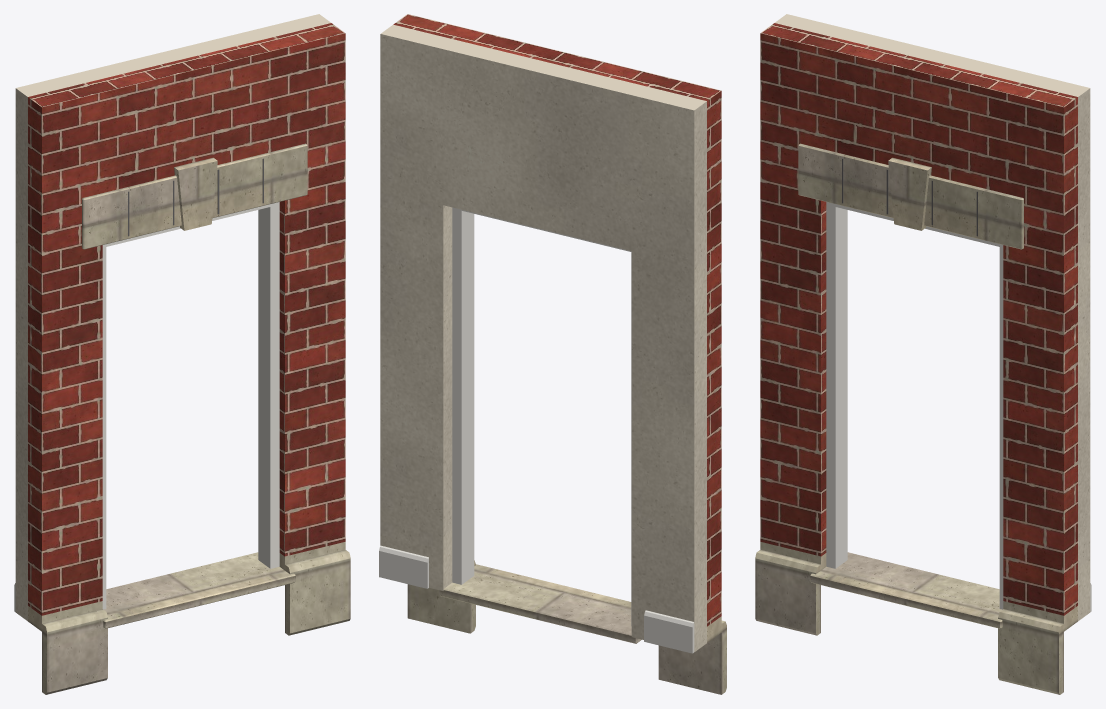
File: w1_bal.glb
3 renders of one model, left to right at view 1: azimuth 30°, elevation 25°; view 2: azimuth 150°, elevation 25°; view 3: azimuth 330°, elevation 25°, orthographic. The views are drawn at different scales.
Parts seen in each view (by area): view 1: w1_bal_brick, w1_bal_stone_t, w1_bal_plaster, w1_bal_frame; view 2: w1_bal_plaster, w1_bal_stone_t, w1_bal_brick, w1_bal_frame, w1_bal_trim; view 3: w1_bal_brick, w1_bal_stone_t, w1_bal_plaster, w1_bal_frame.
Boxes of the visible parts, x1=… form: w1_bal_brick: x1=28, y1=23, x2=345, y2=615; w1_bal_stone_t: x1=28, y1=143, x2=350, y2=694; w1_bal_plaster: x1=15, y1=14, x2=330, y2=621; w1_bal_frame: x1=102, y1=202, x2=279, y2=609; w1_bal_plaster: x1=380, y1=24, x2=706, y2=651; w1_bal_stone_t: x1=407, y1=560, x2=726, y2=694; w1_bal_brick: x1=393, y1=14, x2=721, y2=626; w1_bal_frame: x1=452, y1=207, x2=631, y2=625; w1_bal_trim: x1=379, y1=545, x2=694, y2=653; w1_bal_brick: x1=760, y1=23, x2=1077, y2=615; w1_bal_stone_t: x1=755, y1=143, x2=1077, y2=694; w1_bal_plaster: x1=775, y1=14, x2=1090, y2=621; w1_bal_frame: x1=826, y1=202, x2=1003, y2=609.
Bounding box in the file's own units: 2 × 3.68 × 0.398.
6 materials, 3 textured.
